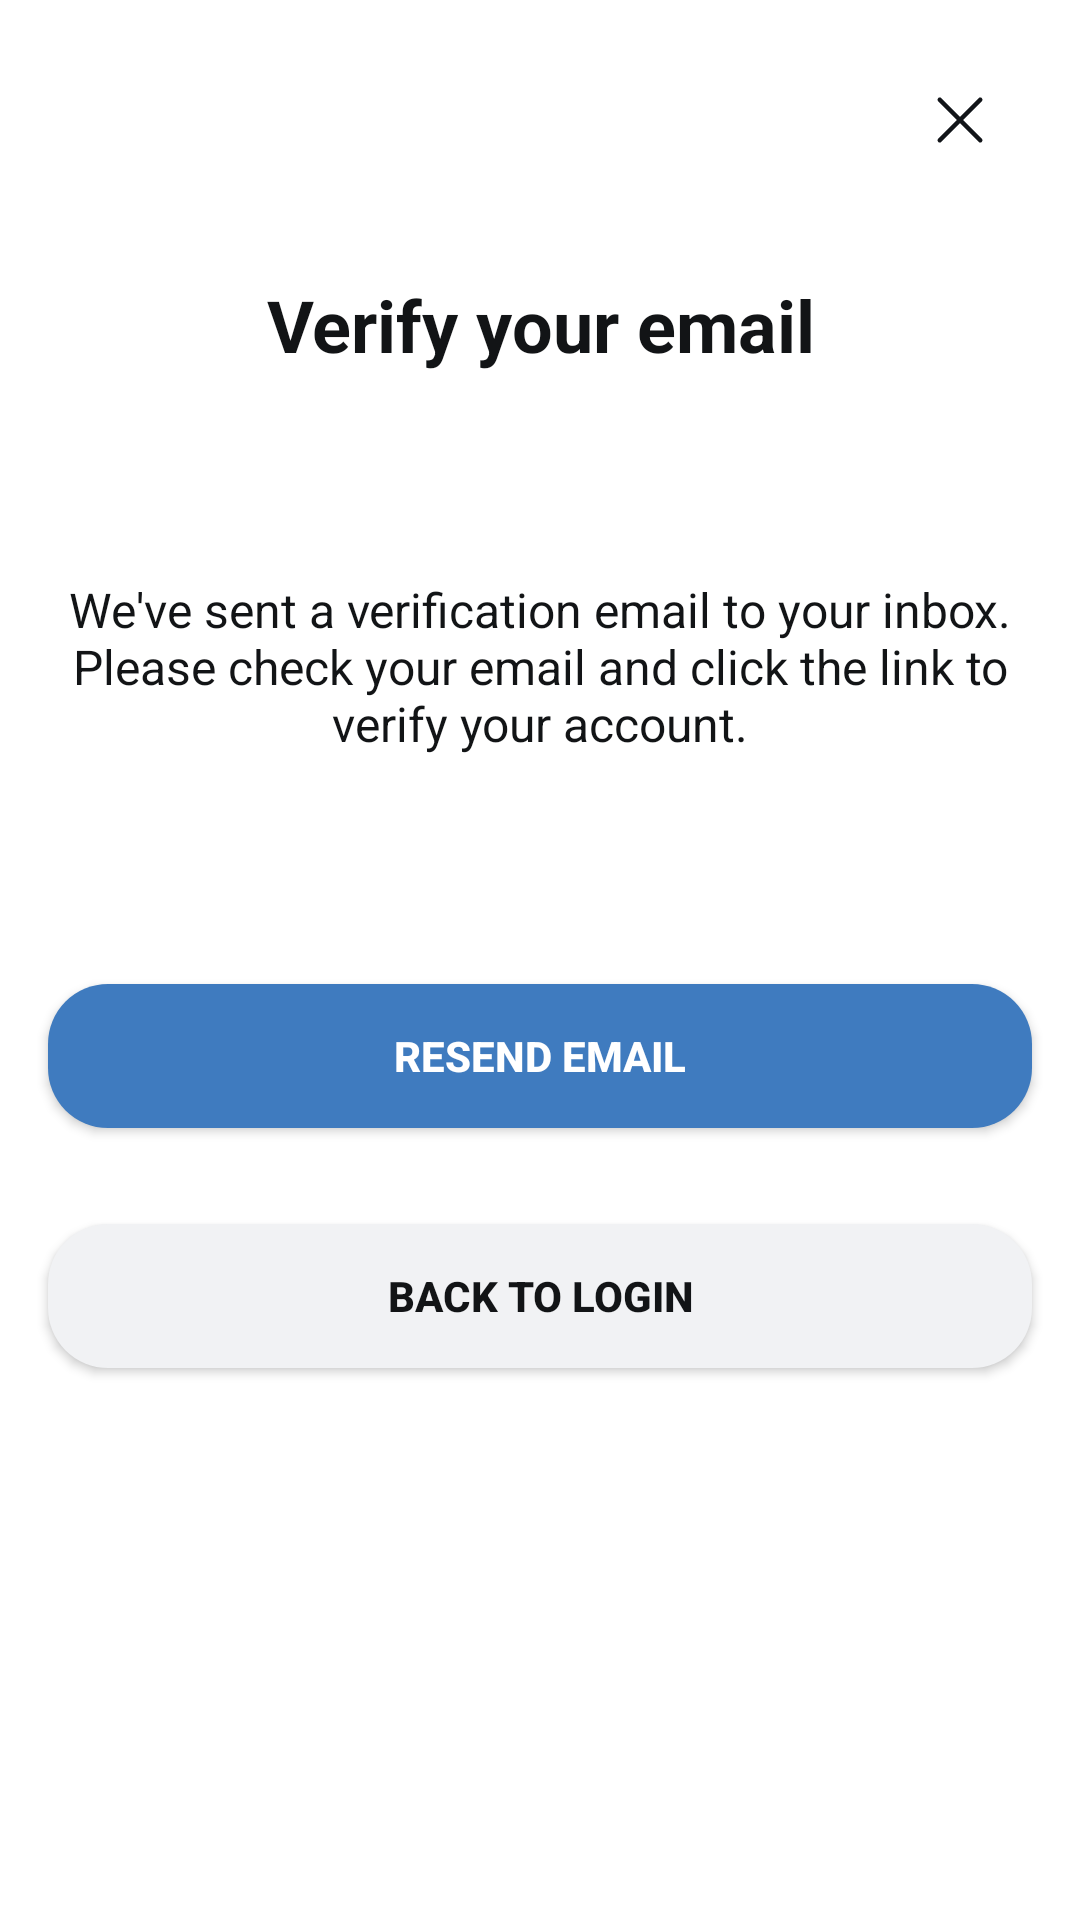

Where to tap for icons on this 1080 × 1920 app screen, as (x=x, y=y):
Close: (x=960, y=120)
